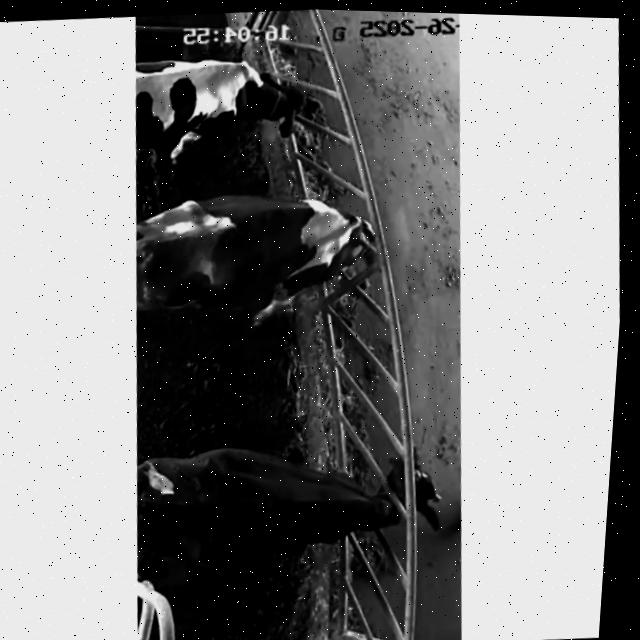eat: (182, 41, 380, 159), (264, 183, 429, 319), (309, 421, 470, 557)
